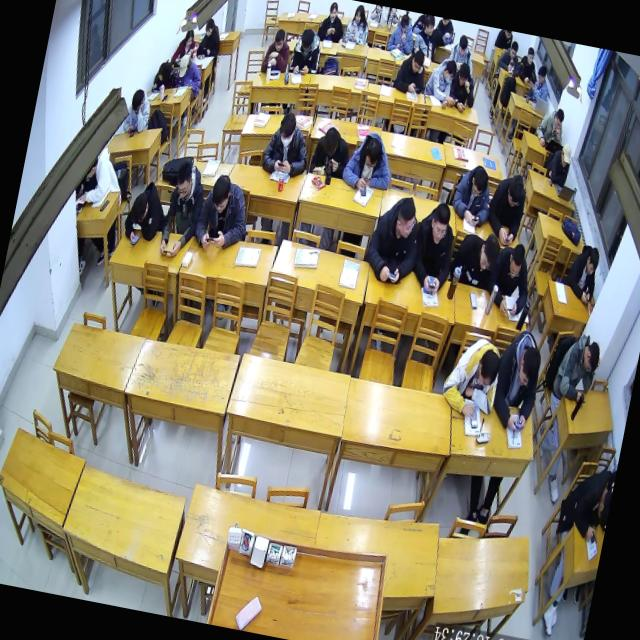bow: (486, 326, 548, 434), (438, 332, 506, 424), (192, 172, 254, 256), (555, 464, 616, 545), (340, 128, 398, 194), (121, 179, 170, 249), (422, 56, 457, 110), (153, 60, 179, 90)
down: (488, 241, 536, 318), (484, 169, 530, 245), (516, 344, 544, 386), (476, 349, 502, 389), (478, 232, 501, 271), (209, 175, 232, 213), (172, 162, 194, 200), (277, 112, 298, 148), (581, 340, 603, 374), (506, 243, 526, 280), (594, 488, 612, 528), (505, 174, 526, 208), (468, 166, 488, 198), (362, 138, 382, 170), (130, 192, 150, 222), (322, 126, 341, 156), (584, 248, 602, 276), (130, 88, 146, 114), (456, 62, 472, 86), (410, 50, 426, 74), (558, 144, 574, 168), (272, 28, 286, 51), (552, 107, 566, 130), (300, 29, 314, 51), (177, 55, 191, 77), (203, 18, 216, 38), (399, 12, 411, 32), (457, 36, 469, 56), (536, 64, 548, 84), (156, 62, 168, 82), (508, 41, 519, 59)
lookup: (428, 202, 452, 245), (353, 4, 366, 23), (328, 2, 339, 20), (526, 47, 535, 64)
sit: (362, 192, 426, 288), (157, 160, 210, 260), (408, 201, 462, 295), (552, 329, 604, 404), (260, 110, 315, 178), (449, 228, 501, 290), (449, 162, 496, 228), (82, 150, 128, 208), (565, 241, 603, 304), (310, 124, 352, 180), (288, 27, 324, 77), (394, 46, 429, 96), (448, 62, 480, 114), (260, 26, 294, 74), (534, 104, 569, 148), (172, 54, 205, 100), (123, 86, 154, 134), (386, 10, 419, 54), (412, 14, 442, 61), (316, 1, 348, 44), (545, 142, 574, 188), (343, 4, 372, 46), (196, 18, 223, 60), (526, 62, 554, 102), (497, 40, 525, 78), (172, 27, 200, 63), (517, 46, 542, 85), (448, 34, 477, 66)
